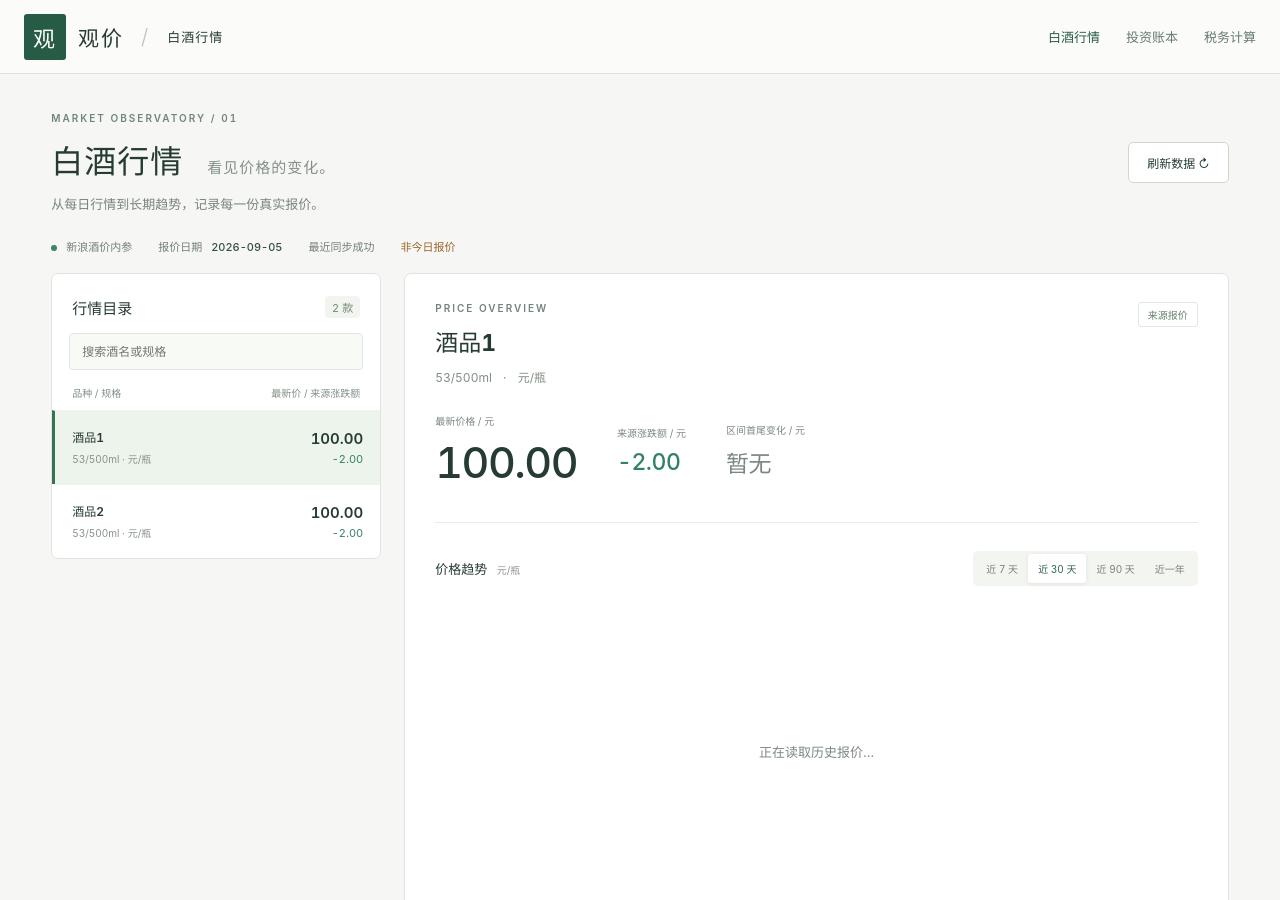
Test case: ignores an obsolete history response even if transport ignores abort
Click the button "酒品2 53/500ml · 元/瓶 100.00 -2.00" at coordinates (88, 512), box [52,484,380,558]
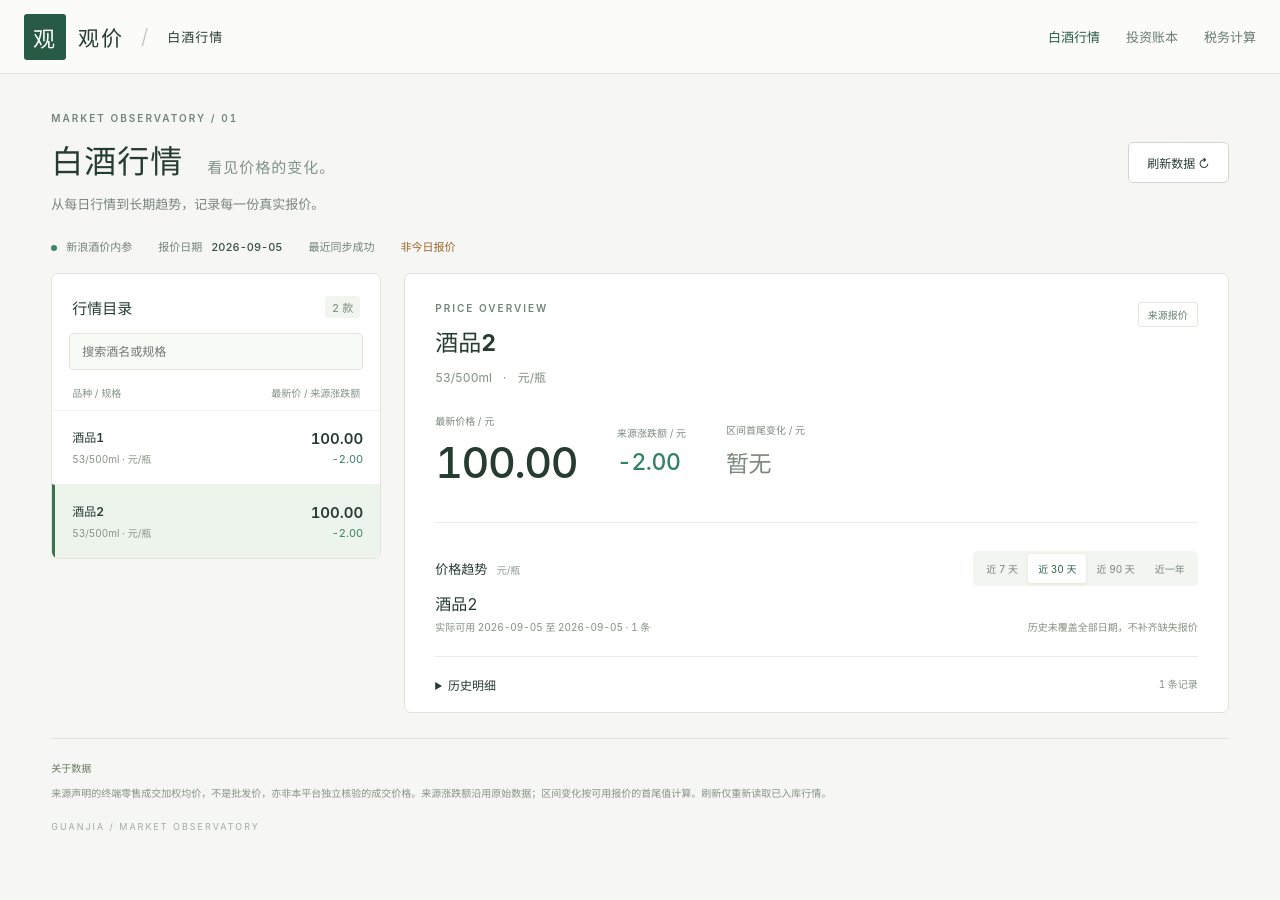
Expected: the heading "酒品2" is shown, [435,329,496,357]
